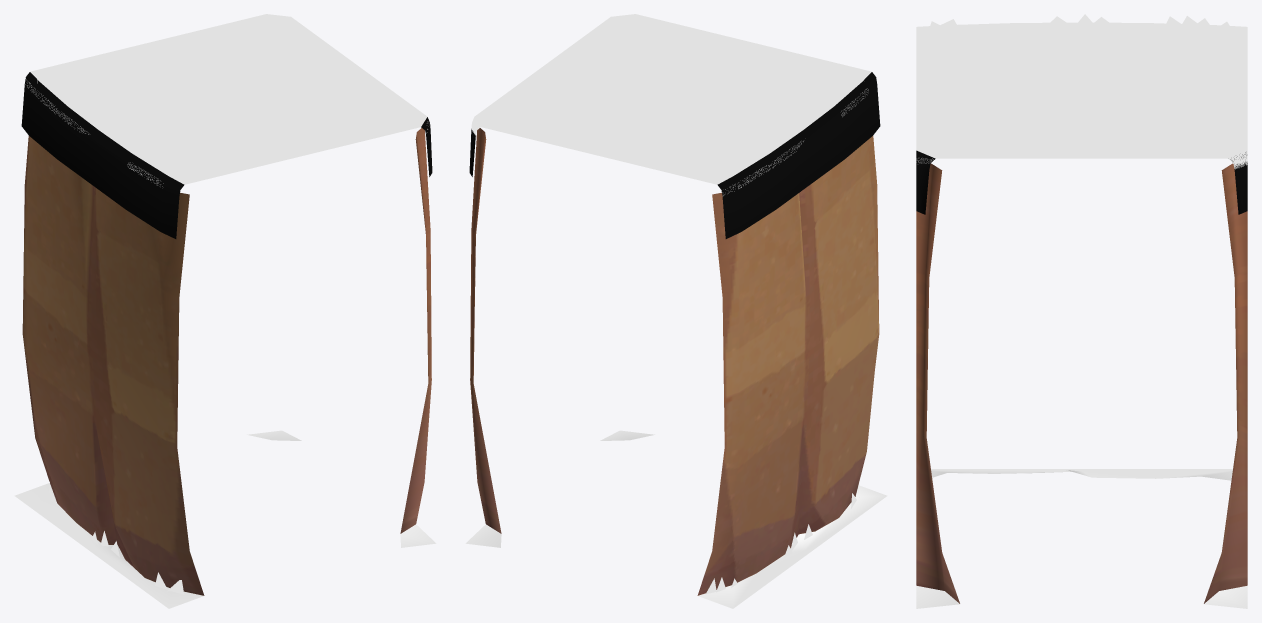
3 views of the same model, side by side, from view 1: azimuth 30°, elevation 25°; view 2: azimuth 150°, elevation 25°; view 3: azimuth 270°, elevation 25° (orthographic). The views are drawn at different scales.
Visible parts, largest first — view 1: CliffA__mCliff, GrassT__mGrass, GrassOP_1__mGrassCliffXlu, GrassB_1__mGrass; view 2: CliffA__mCliff, GrassT__mGrass, GrassOP_1__mGrassCliffXlu, GrassB_1__mGrass; view 3: GrassT__mGrass, CliffA__mCliff, GrassB_1__mGrass, GrassOP_1__mGrassCliffXlu, PGrassBC__mProcGrass.
Boxes of the visible parts, <box> form: CliffA__mCliff: <box>22,128,431,595</box>; GrassT__mGrass: <box>25,14,427,186</box>; GrassOP_1__mGrassCliffXlu: <box>21,72,432,238</box>; GrassB_1__mGrass: <box>14,430,436,608</box>; CliffA__mCliff: <box>470,128,879,595</box>; GrassT__mGrass: <box>471,14,871,195</box>; GrassOP_1__mGrassCliffXlu: <box>469,72,880,238</box>; GrassB_1__mGrass: <box>465,430,887,608</box>; GrassT__mGrass: <box>916,22,1247,169</box>; CliffA__mCliff: <box>916,163,1247,603</box>; GrassB_1__mGrass: <box>916,469,1247,608</box>; GrassOP_1__mGrassCliffXlu: <box>916,150,1247,214</box>; PGrassBC__mProcGrass: <box>929,14,1229,29</box>.
Size of the model in its own units: 10 by 15.34 by 10.
Materials: 4 (1 with a texture image).
